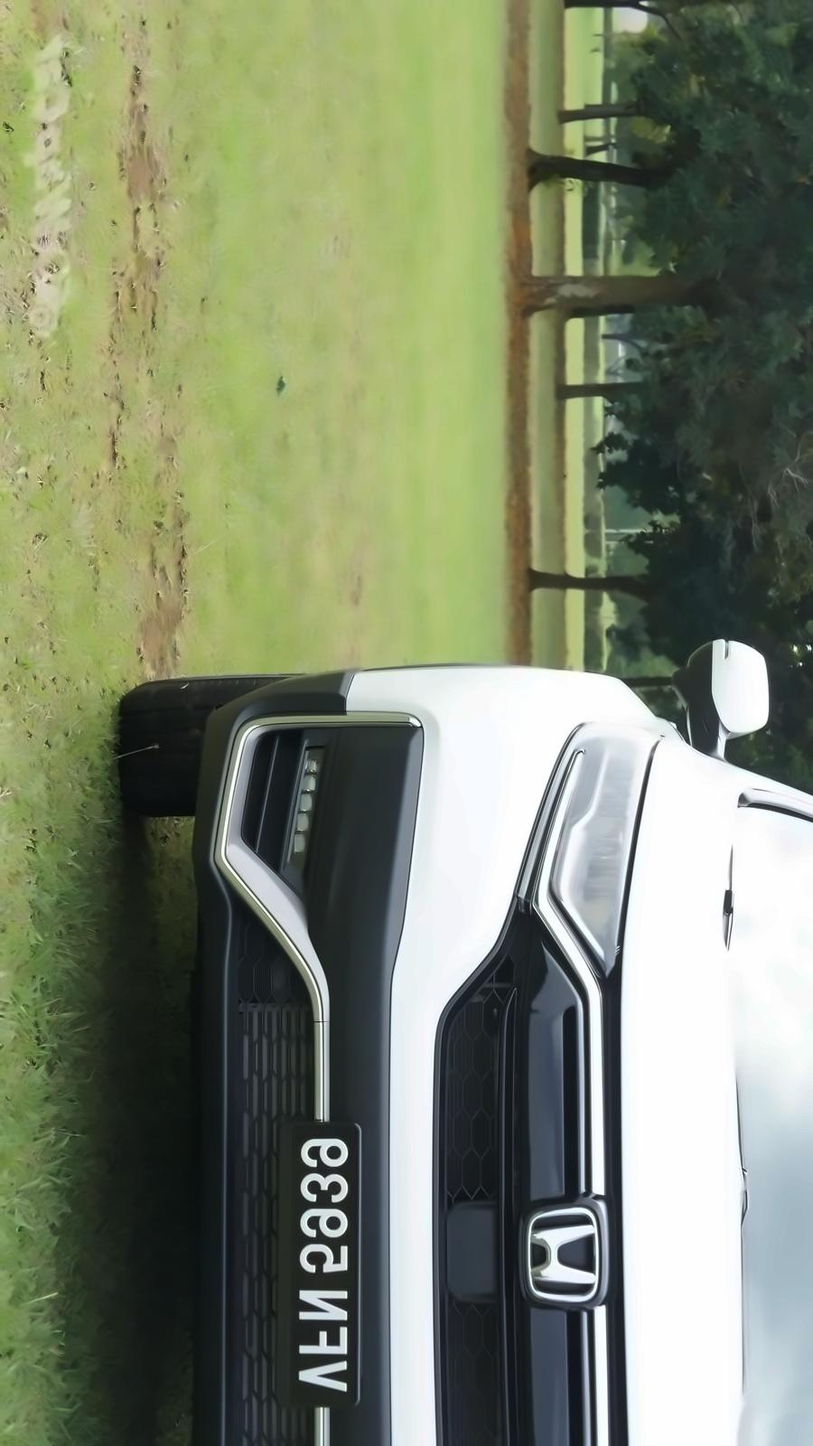Car hood: (601, 735, 760, 1446)
Front bumper: (201, 655, 549, 1446)
Headlight - -R-: (515, 726, 655, 999)
Side mirror - -R-: (696, 628, 766, 789)
